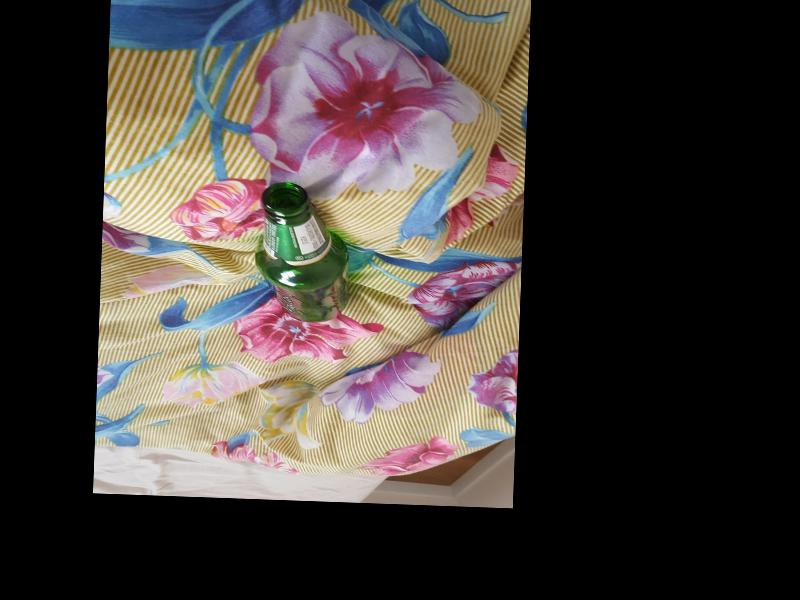Beer: (253, 181, 348, 322)
